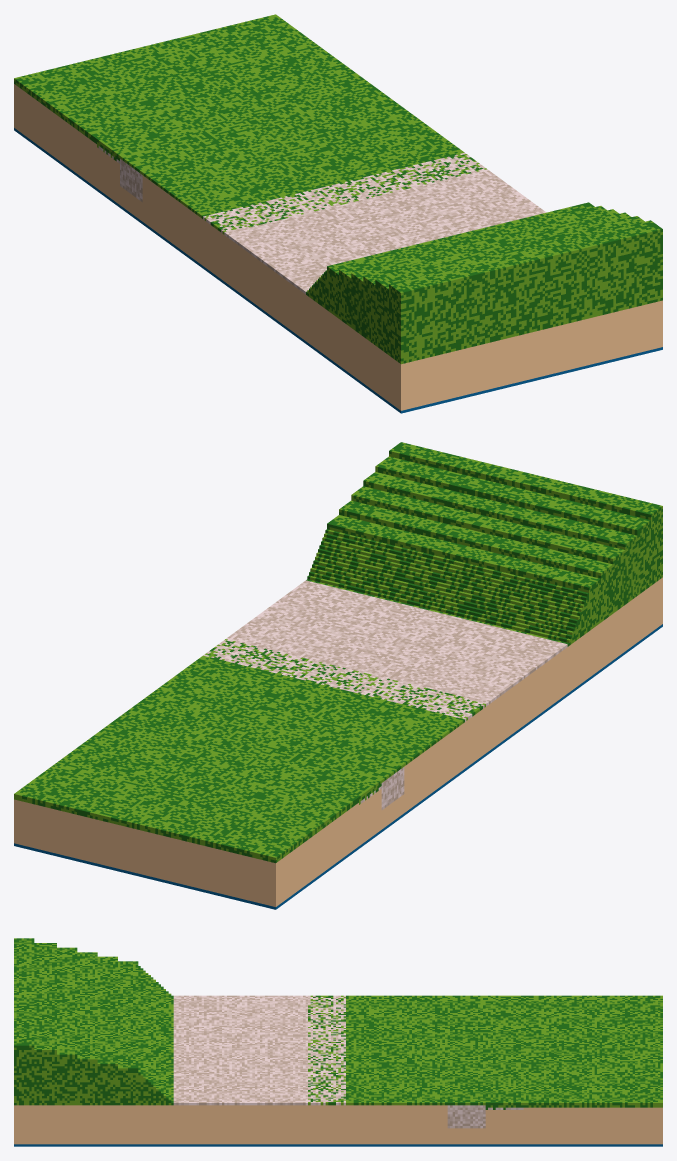
Rendered from castelloVillafranca-14.obj.
The picture shows the model from 3 angles, top to bottom: view 1: azimuth 30°, elevation 25°; view 2: azimuth 150°, elevation 25°; view 3: azimuth 270°, elevation 25°; orthographic projection. The views are drawn at different scales.
Size of the model in its own units: 10 by 4.4 by 25.6.
Materials: 1 (1 with a texture image).
